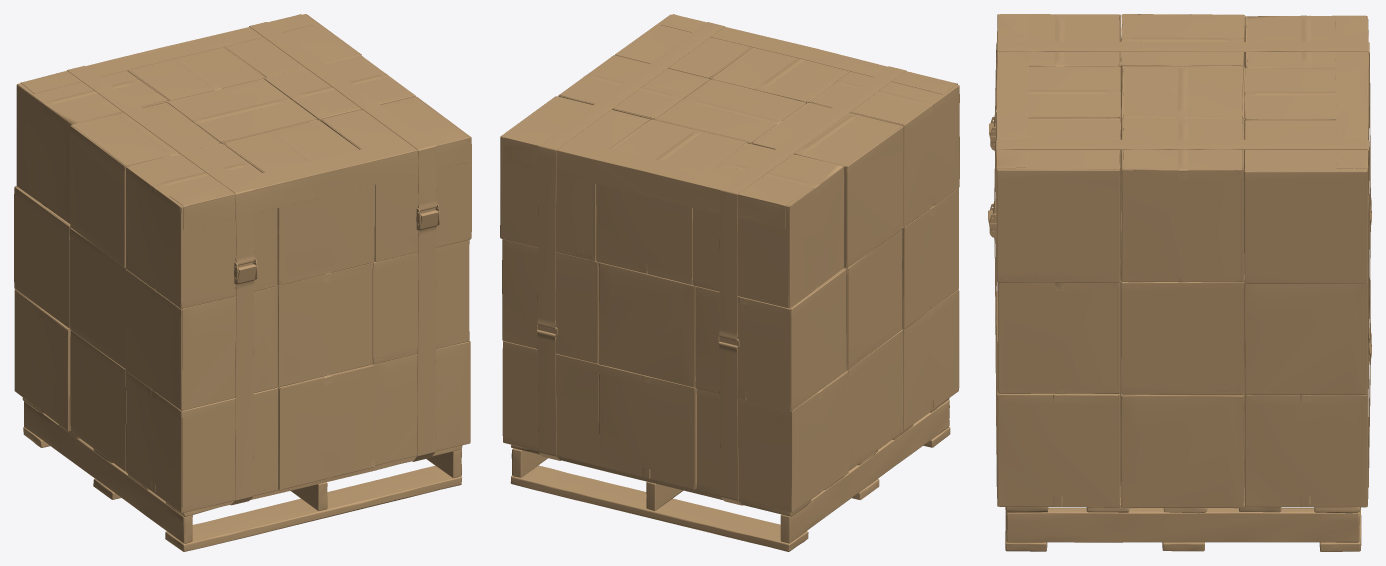
File: pallet_assembly_brown_f06.glb
The picture shows the model from 3 angles, left to right: view 1: azimuth 30°, elevation 25°; view 2: azimuth 150°, elevation 25°; view 3: azimuth 270°, elevation 25°; orthographic projection. The views are drawn at different scales.
Bounding box in the file's own units: 0.7859 × 0.8948 × 0.8049.
